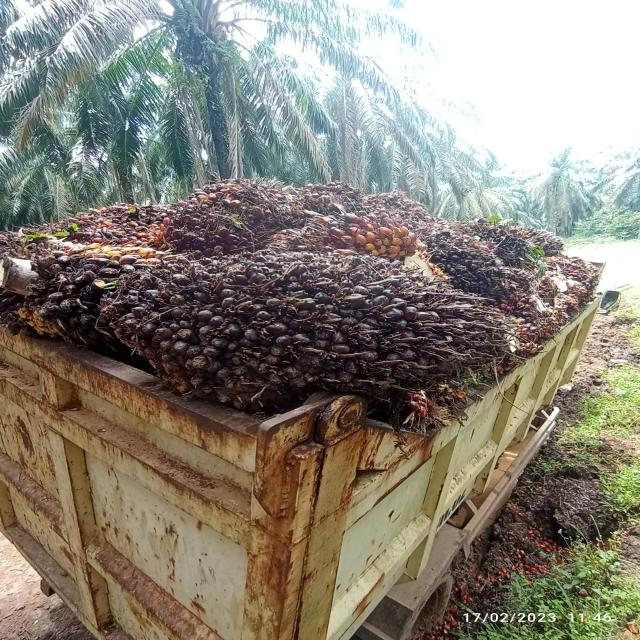fraksi 00: (75, 234, 541, 408), (432, 224, 522, 314)
